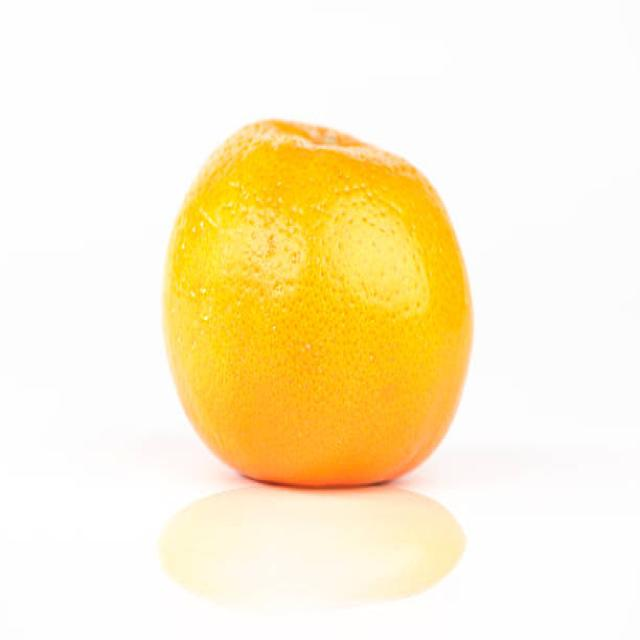Ripe: (159, 117, 479, 491)
